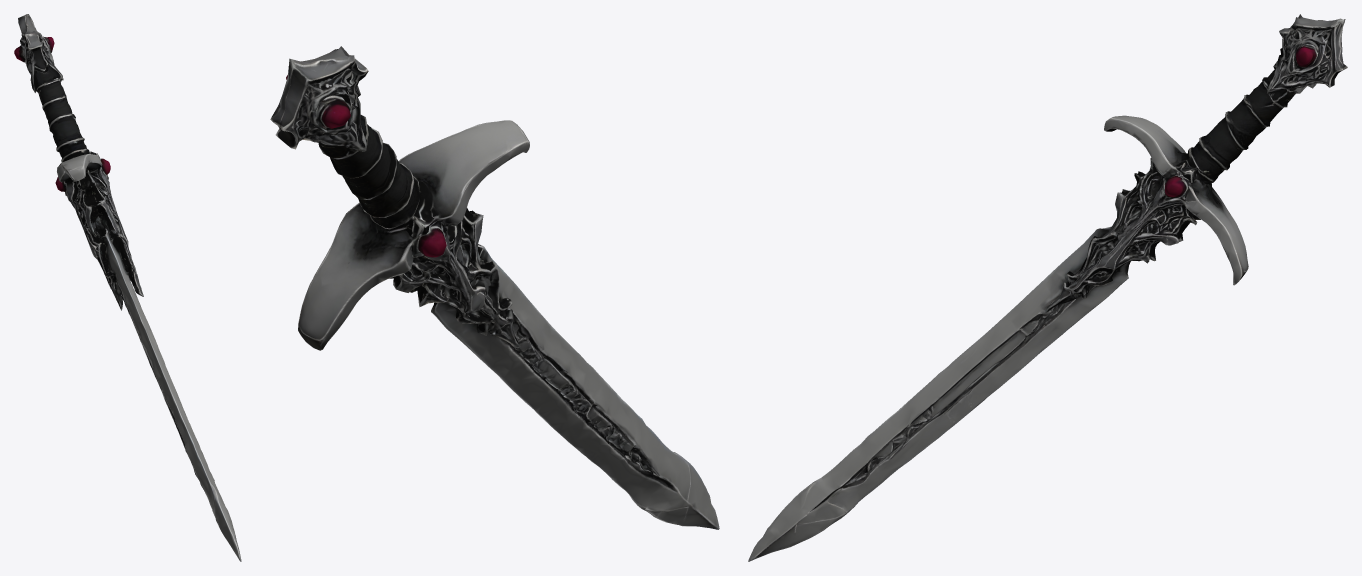
Rendered from sol_mod_sword_rapier.glb.
The picture shows the model from 3 angles, left to right: view 1: azimuth 30°, elevation 25°; view 2: azimuth 150°, elevation 25°; view 3: azimuth 270°, elevation 25°; orthographic projection. The views are drawn at different scales.
Parts seen in each view (by area): view 1: tripo_node_181ebf9a-3a9f-418f-8375-999d4814bd78; view 2: tripo_node_181ebf9a-3a9f-418f-8375-999d4814bd78; view 3: tripo_node_181ebf9a-3a9f-418f-8375-999d4814bd78.
Part boxes in pixels (x1,y1,x2,y2): tripo_node_181ebf9a-3a9f-418f-8375-999d4814bd78: [14, 14, 241, 561]; tripo_node_181ebf9a-3a9f-418f-8375-999d4814bd78: [270, 46, 719, 529]; tripo_node_181ebf9a-3a9f-418f-8375-999d4814bd78: [748, 14, 1347, 561].
Bounding box in the file's own units: 0.1898 × 0.9987 × 1.
Materials: 1 (1 with a texture image).
